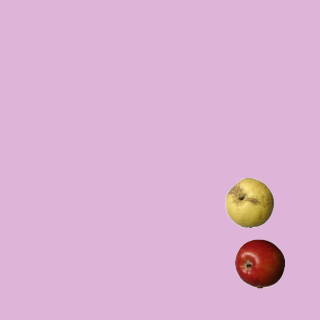Apple Braeburn: (234, 238, 284, 288)
Apple Golden 1: (224, 177, 274, 227)
